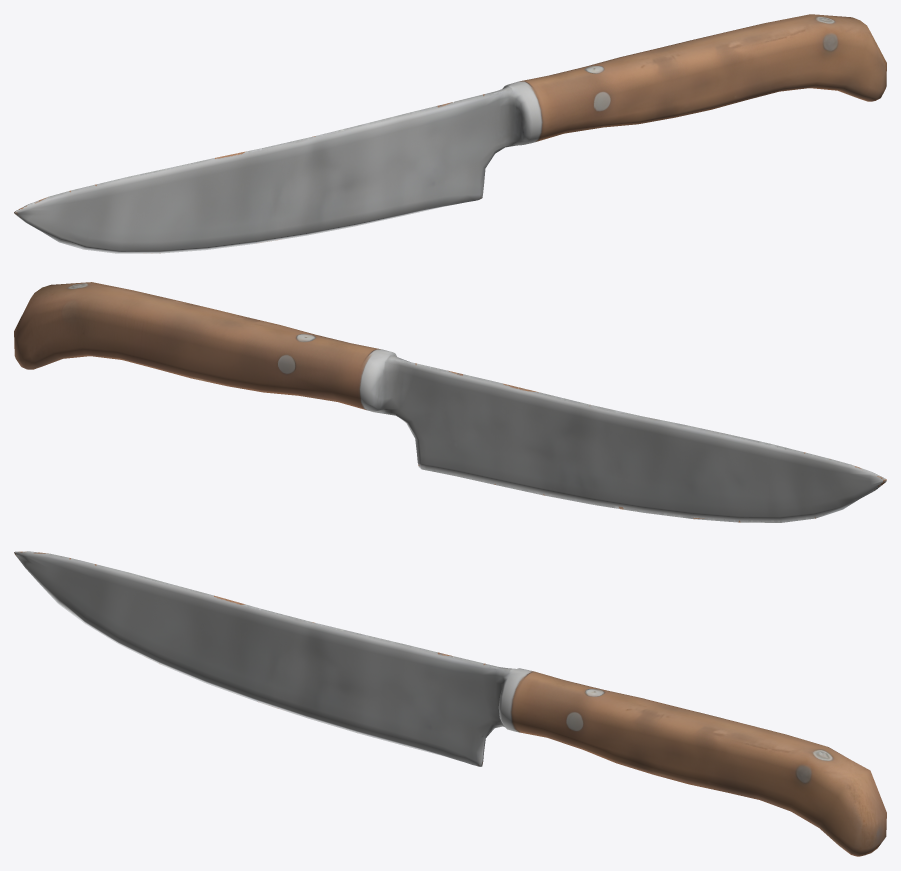
File: a vintage-style, rectangula....glb
The picture shows the model from 3 angles, top to bottom: view 1: azimuth 30°, elevation 25°; view 2: azimuth 150°, elevation 25°; view 3: azimuth 330°, elevation 25°; orthographic projection.
Bounding box in the file's own units: 1.91 × 0.2314 × 0.1191.
Materials: 1 (1 with a texture image).
